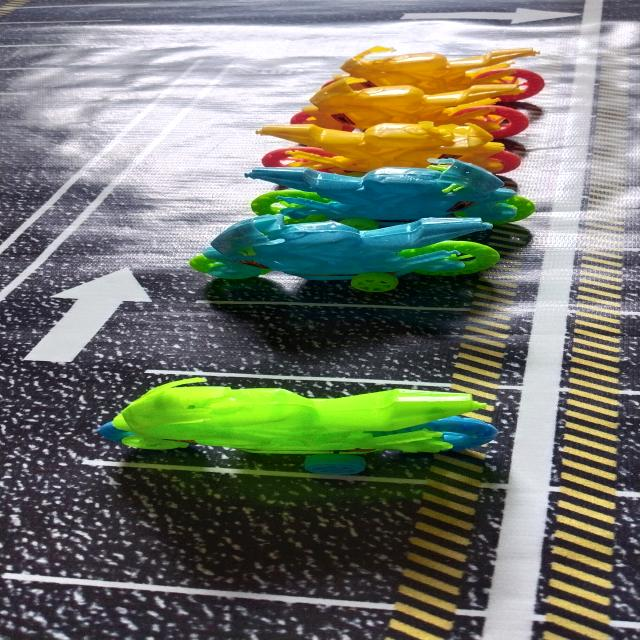bikes: (290, 76, 529, 139), (341, 47, 544, 103)
occupied: (97, 372, 497, 475), (190, 208, 500, 309), (246, 160, 535, 251), (256, 121, 526, 174)
slots: (2, 462, 429, 603), (141, 304, 469, 383)
